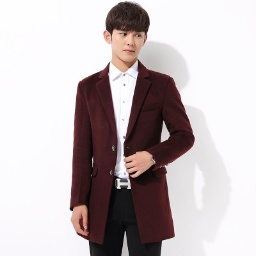face: (104, 2, 150, 63)
